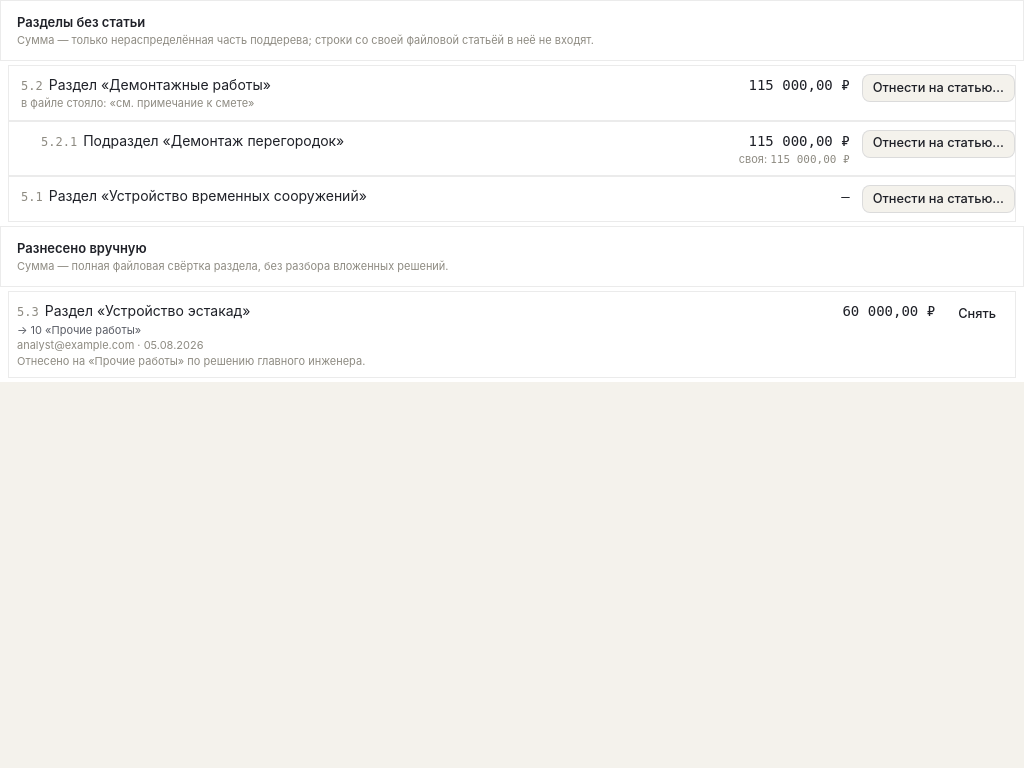
Test: Панель-верстак разноса: выбор статьи › поиск находит статью по названию
Click the button with test id "pick-category-5001". click: click(938, 200)
box: [862,186,1015,214]
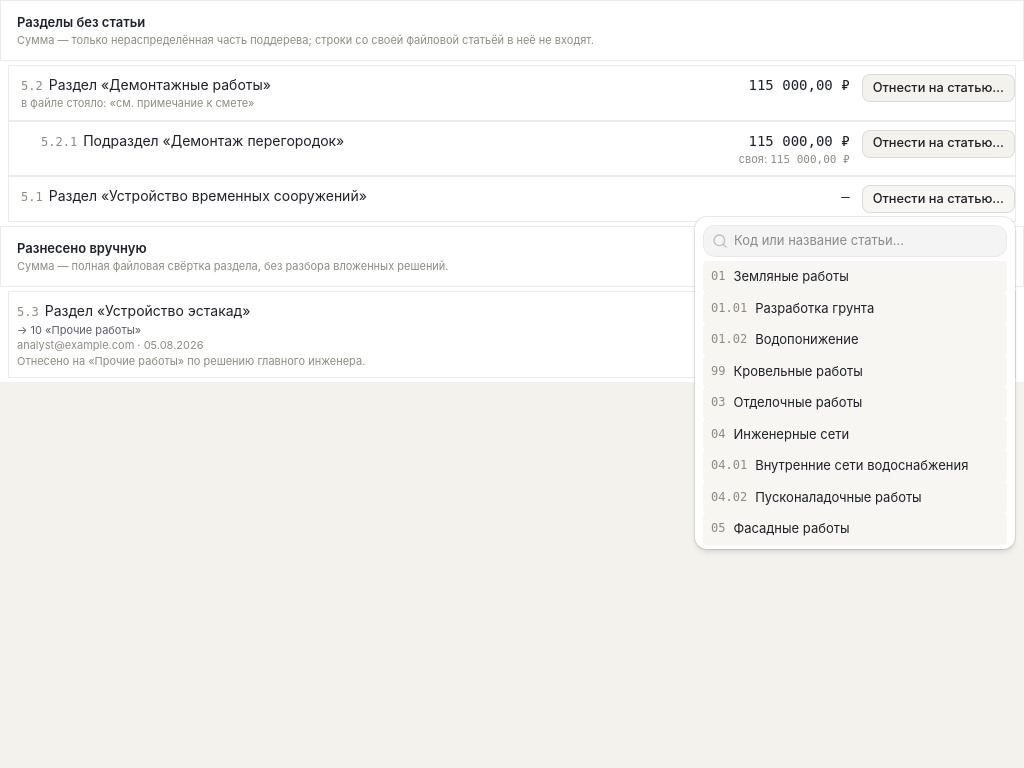
Type "Слаботочные" into the dropdown. click: (867, 241)
box: [728,231,1006,251]
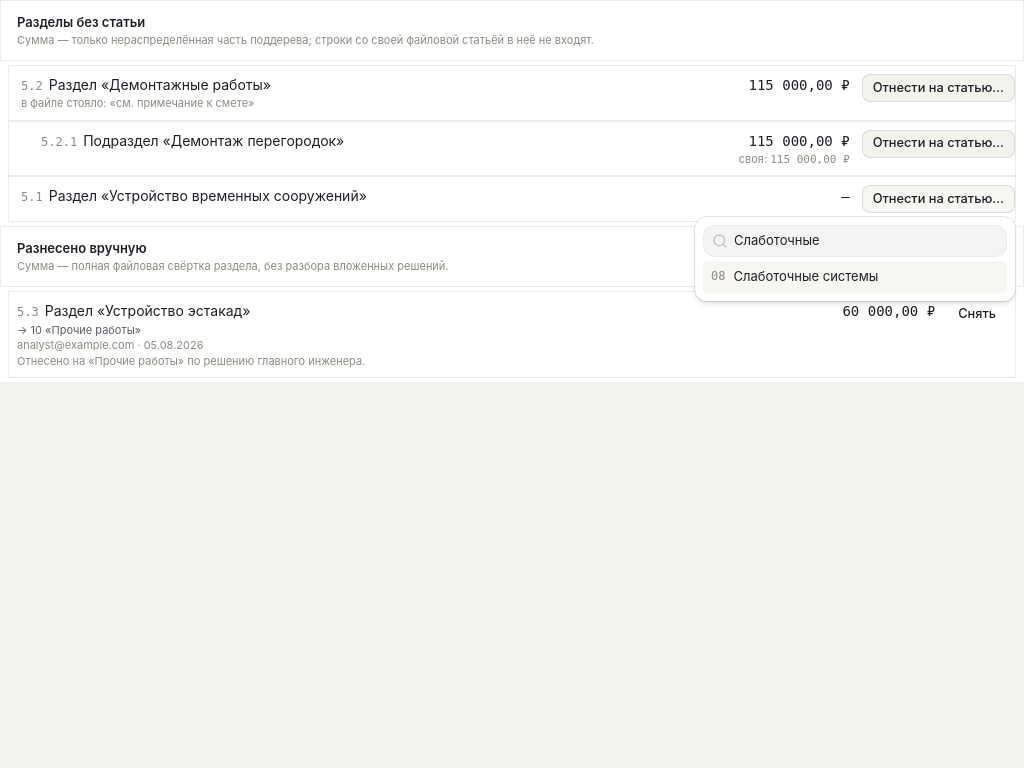
Now the text "Слаботочные системы" is shown, box [734,267,878,286]
Now the option "Пусконаладочные работы" is gone
